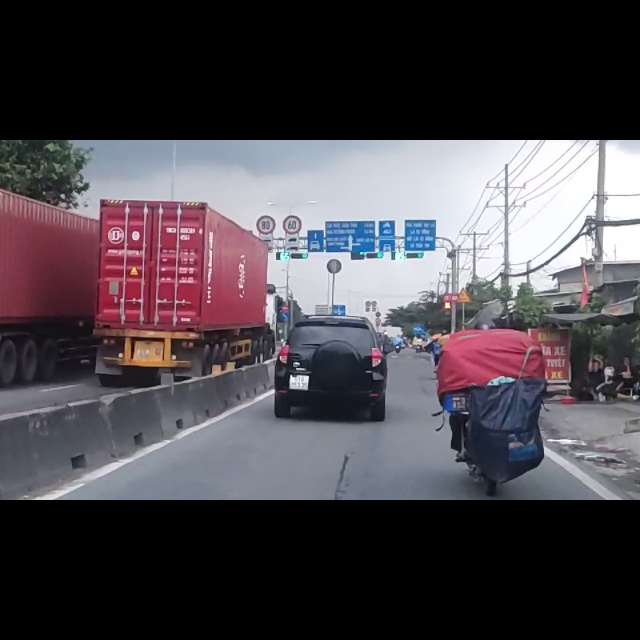bien_hieu_lenh: (282, 132, 303, 169), (256, 134, 275, 169), (457, 262, 471, 289), (281, 293, 289, 305), (281, 306, 289, 318)
